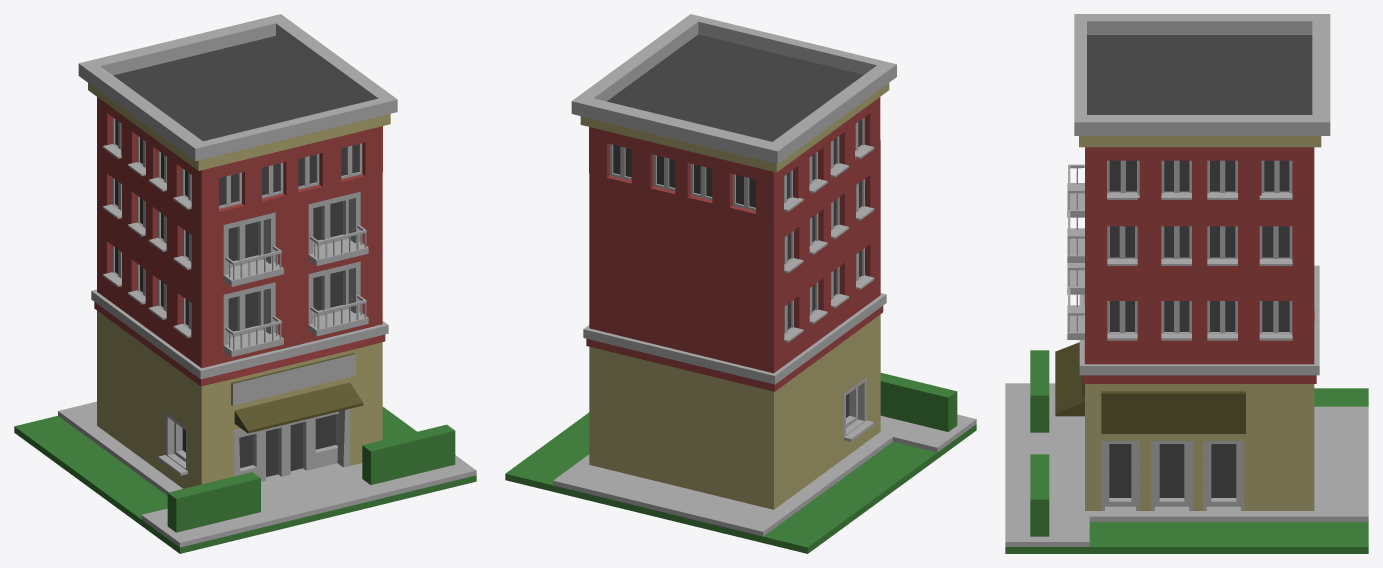
File: CO_Building.glb
The picture shows the model from 3 angles, left to right: view 1: azimuth 30°, elevation 25°; view 2: azimuth 150°, elevation 25°; view 3: azimuth 270°, elevation 25°; orthographic projection. The views are drawn at different scales.
Parts seen in each view (by area): view 1: Object017_17 - Default_0, Object016_16 - Defaultghj_0, Object019_04_0, Object018_06 - Default_0, Object014_15 - Default6_0, Object020_15 - Default_0, Object015_17 - Default_0; view 2: Object016_16 - Defaultghj_0, Object018_06 - Default_0, Object017_17 - Default_0, Object019_04_0, Object014_15 - Default6_0; view 3: Object017_17 - Default_0, Object016_16 - Defaultghj_0, Object019_04_0, Object018_06 - Default_0, Object014_15 - Default6_0, Object020_15 - Default_0.
Boxes of the visible parts, <box> form: Object017_17 - Default_0: <box>58,14,476,547</box>; Object016_16 - Defaultghj_0: <box>94,97,385,386</box>; Object019_04_0: <box>113,36,365,477</box>; Object018_06 - Default_0: <box>88,83,390,488</box>; Object014_15 - Default6_0: <box>14,407,476,553</box>; Object020_15 - Default_0: <box>231,331,363,433</box>; Object015_17 - Default_0: <box>232,354,355,405</box>; Object016_16 - Defaultghj_0: <box>586,97,883,391</box>; Object018_06 - Default_0: <box>580,83,889,509</box>; Object017_17 - Default_0: <box>553,14,976,536</box>; Object019_04_0: <box>607,34,863,417</box>; Object014_15 - Default6_0: <box>505,373,976,553</box>; Object017_17 - Default_0: <box>1005,14,1368,546</box>; Object016_16 - Defaultghj_0: <box>1082,147,1316,383</box>; Object019_04_0: <box>1087,35,1312,497</box>; Object018_06 - Default_0: <box>1079,136,1321,510</box>; Object014_15 - Default6_0: <box>1005,350,1368,553</box>; Object020_15 - Default_0: <box>1055,342,1245,433</box>.
Size of the model in its own units: 154 by 184 by 149.
